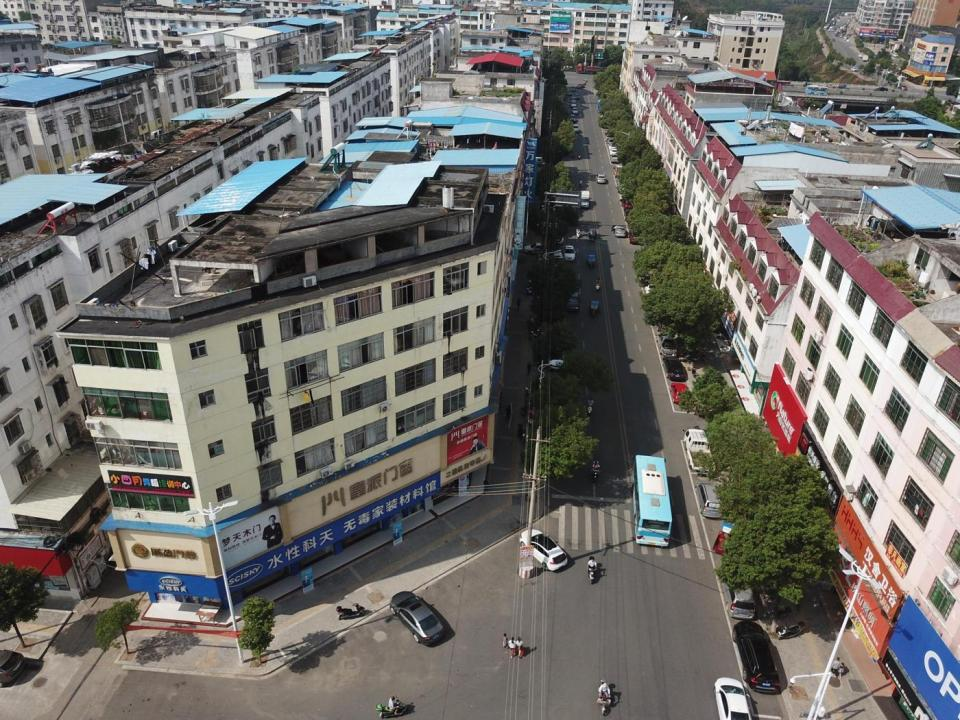bus: (632, 453, 672, 547)
car: (732, 620, 783, 694), (389, 590, 446, 646), (519, 529, 567, 572), (713, 677, 748, 720), (662, 355, 684, 380), (549, 340, 565, 370), (671, 383, 689, 403), (541, 252, 562, 264), (524, 243, 546, 253), (619, 179, 629, 197), (564, 246, 577, 259), (614, 223, 626, 237), (630, 230, 641, 244), (624, 209, 636, 220), (622, 199, 633, 209), (596, 174, 606, 183), (608, 143, 617, 153), (570, 124, 578, 133), (572, 108, 578, 114), (570, 115, 575, 122), (571, 102, 576, 108), (571, 86, 576, 92), (566, 90, 571, 95), (572, 96, 576, 102), (575, 94, 579, 99)
truck: (684, 428, 718, 475), (576, 63, 614, 75), (657, 333, 677, 355), (657, 314, 669, 331), (615, 165, 625, 177), (611, 153, 618, 163)
van: (724, 566, 755, 620), (694, 481, 723, 518), (567, 290, 580, 311), (644, 277, 657, 297), (581, 190, 590, 208), (533, 157, 542, 166), (606, 138, 614, 146)
